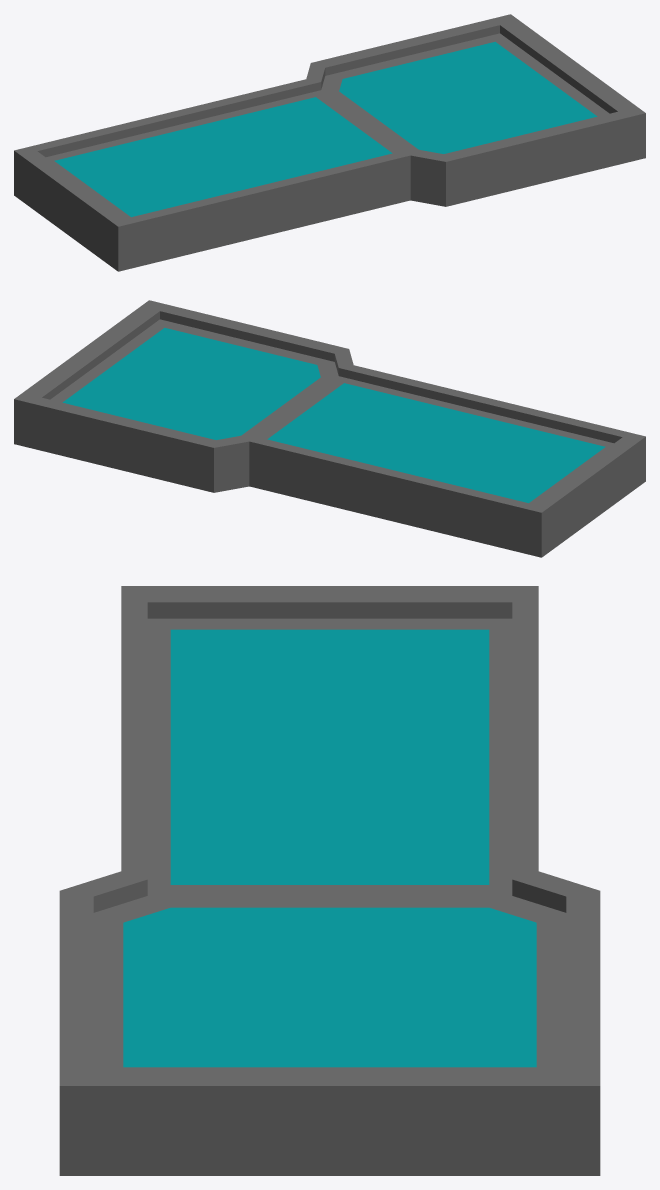
File: SM_Tablet.fbx
3 views of the same model, one above another, from view 1: azimuth 30°, elevation 25°; view 2: azimuth 150°, elevation 25°; view 3: azimuth 270°, elevation 25° (orthographic). The views are drawn at different scales.
Parts seen in each view (by area): view 1: pCube2; view 2: pCube2; view 3: pCube2.
Boxes of the visible parts, box(x1,y1,x2,y2) form: pCube2: box(14, 14, 645, 271); pCube2: box(14, 300, 645, 557); pCube2: box(59, 586, 600, 1175).
Size of the model in its own units: 43.86 by 3.68 by 20.05.
